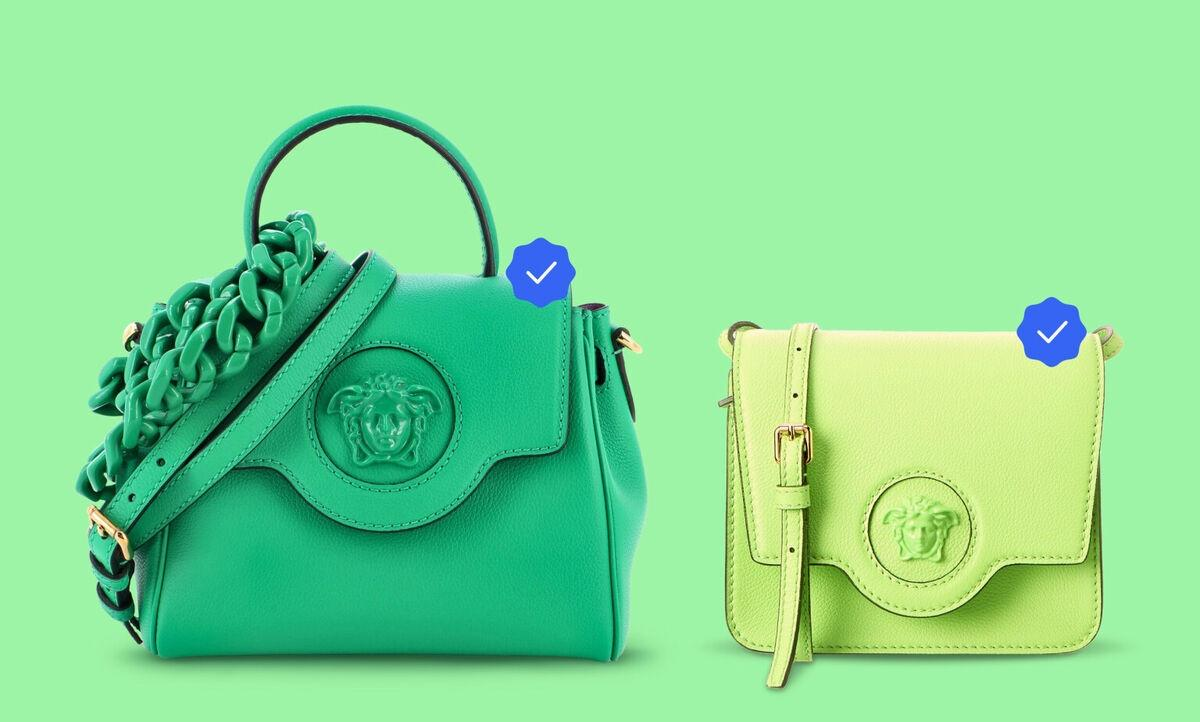VERSACE: (311, 344, 458, 487), (861, 469, 977, 589)
